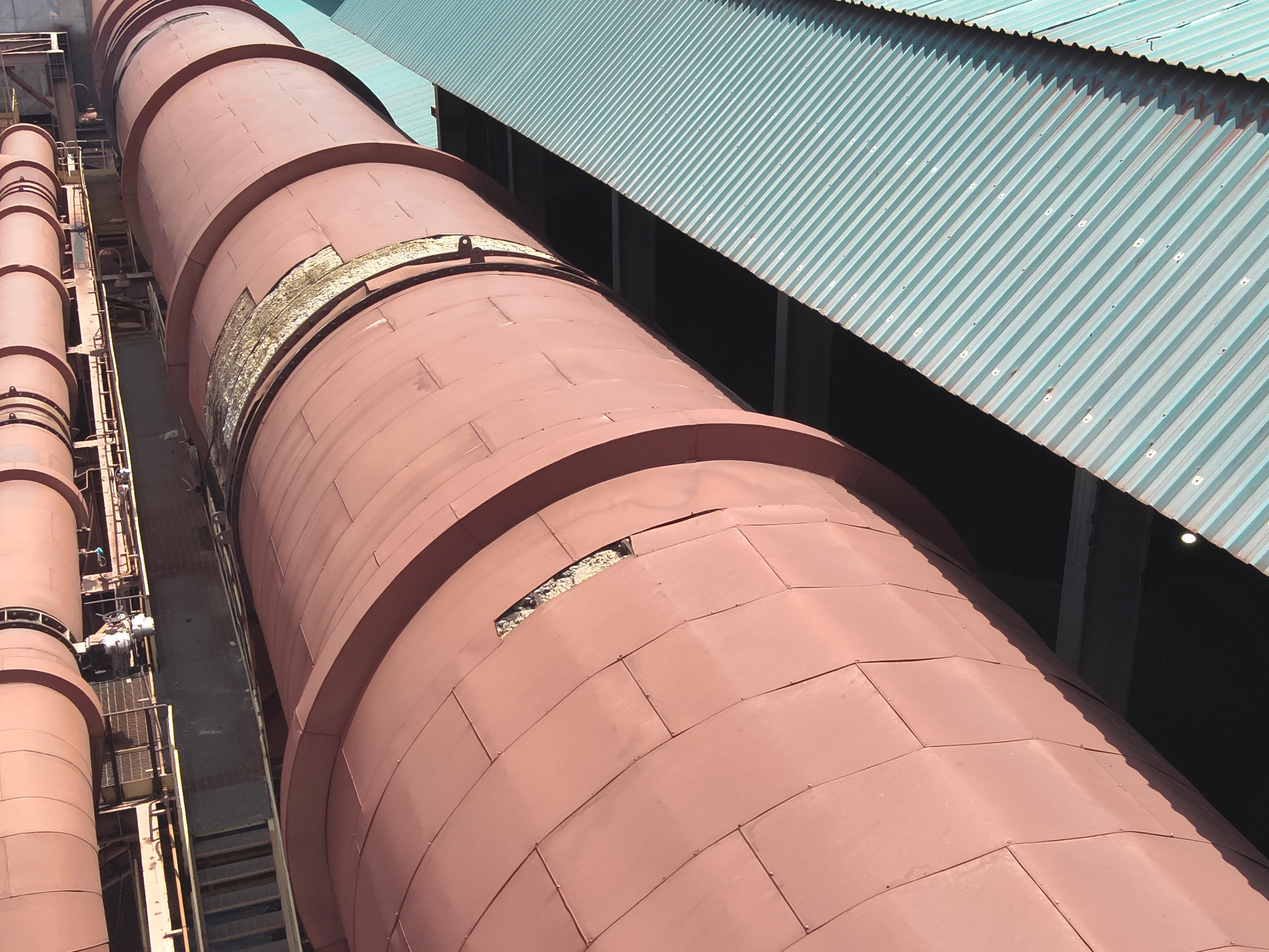Failures: (157, 233, 562, 482), (450, 533, 673, 673)
